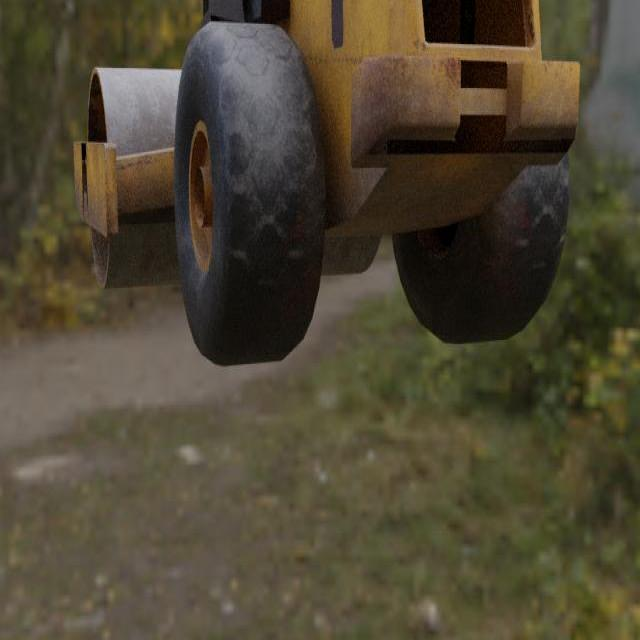Roller: (73, 0, 580, 368)
